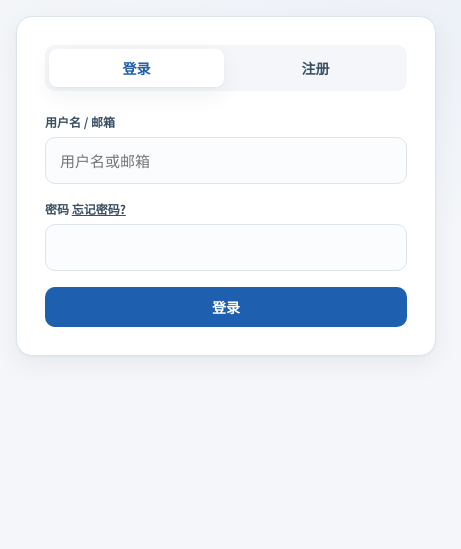
Test: LoginPage › switches to register tab and shows code field
Click the button "注册": click(316, 68) [228, 49, 403, 87]
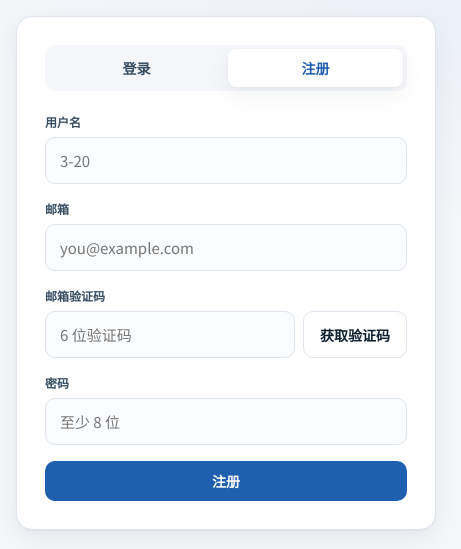
Expected: the text "邮箱验证码" is shown, [45, 287, 105, 304]
